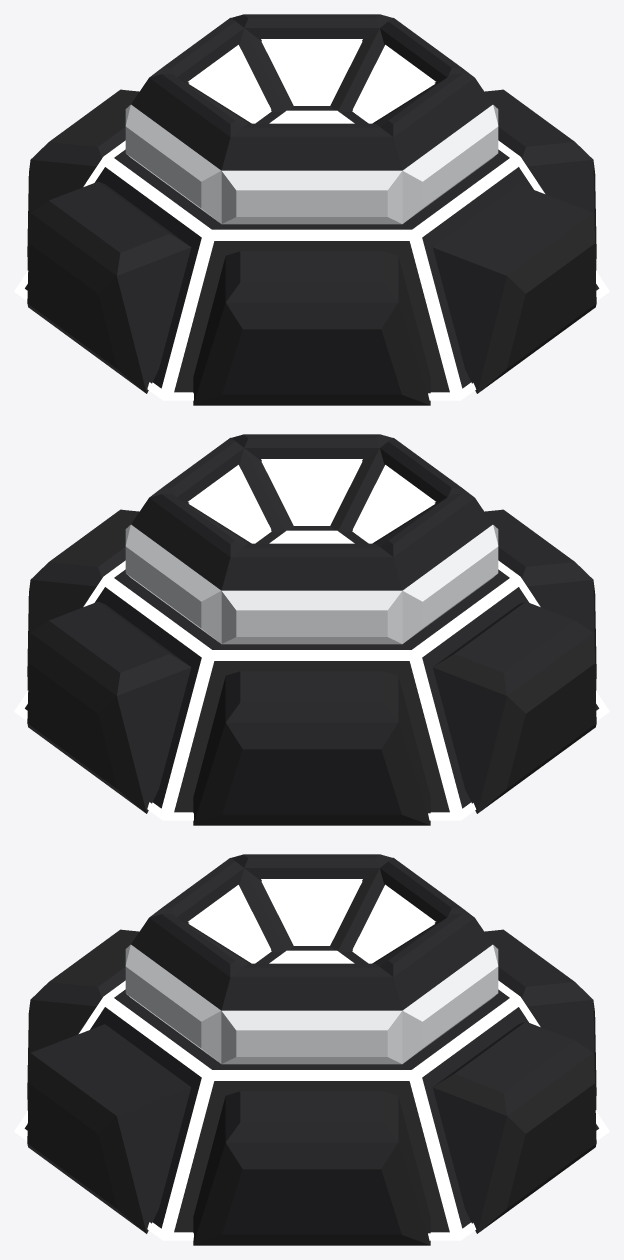
Rendered from bypass9.fbx.
The picture shows the model from 3 angles, top to bottom: view 1: azimuth 30°, elevation 25°; view 2: azimuth 150°, elevation 25°; view 3: azimuth 270°, elevation 25°; orthographic projection.
Parts seen in each view (by area): view 1: SciFI Props 3, neon003, neon002; view 2: SciFI Props 3, neon003, neon002; view 3: SciFI Props 3, neon003, neon002.
Boxes of the visible parts, box(x1,y1,x2,y2) form: SciFI Props 3: box(22, 14, 601, 405); neon003: box(188, 39, 435, 123); neon002: box(14, 140, 609, 400); SciFI Props 3: box(22, 434, 601, 825); neon003: box(188, 459, 435, 543); neon002: box(14, 560, 609, 820); SciFI Props 3: box(22, 854, 601, 1245); neon003: box(188, 879, 435, 963); neon002: box(14, 980, 609, 1240).
Size of the model in its own units: 153 by 66.22 by 159.
